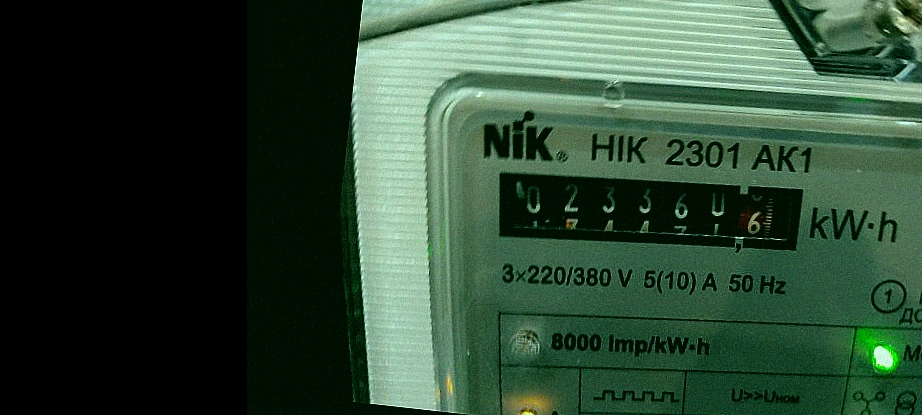0: (521, 179, 546, 215), (704, 186, 730, 219)
2: (560, 179, 584, 214)
3: (634, 180, 657, 215), (596, 182, 618, 214)
6: (742, 203, 767, 238), (669, 186, 693, 221)
screen: (475, 144, 822, 276)
